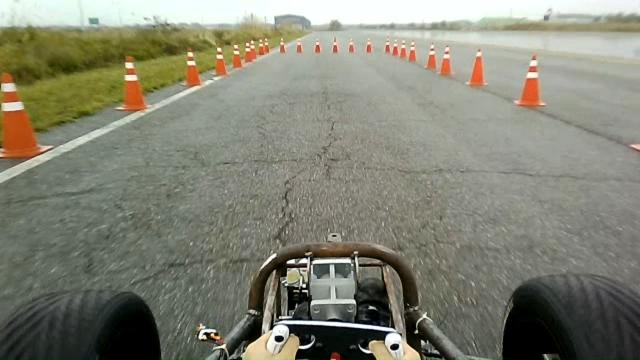red cone: (0, 71, 54, 159), (114, 55, 150, 112), (514, 54, 547, 107), (180, 47, 203, 88), (466, 47, 488, 87), (438, 44, 454, 77), (212, 46, 228, 77), (424, 42, 438, 71), (231, 43, 243, 69)
